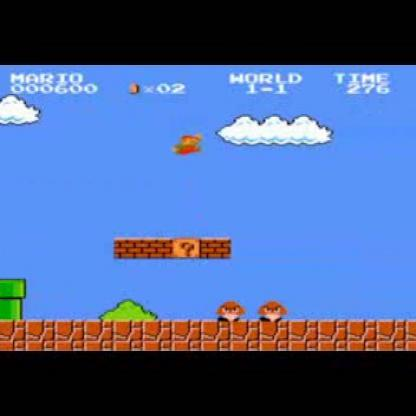Goomba: (221, 298, 247, 321), (260, 300, 286, 318)
